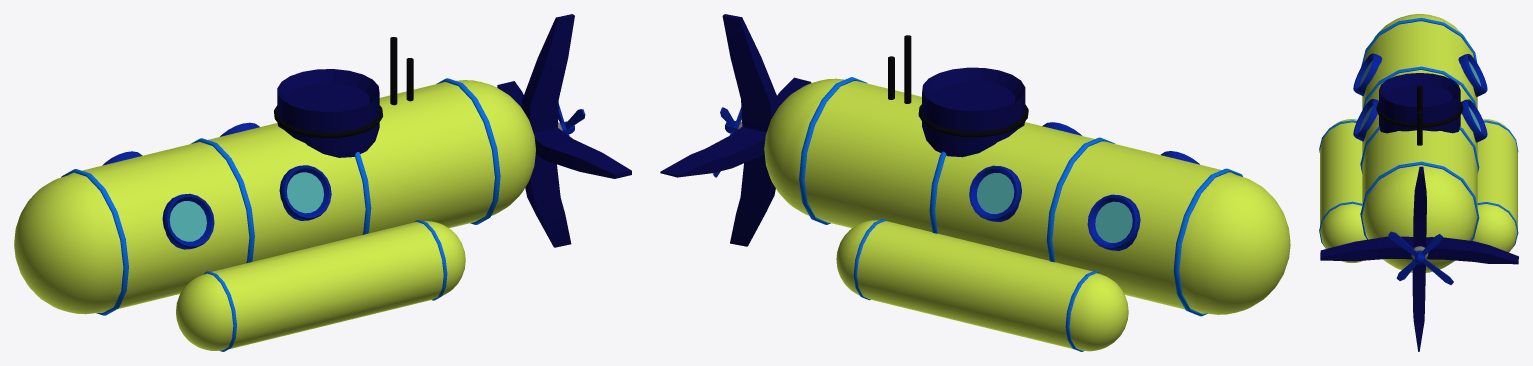
Rendered from Blue Zir Daryayi.fbx.
3 renders of one model, left to right at view 1: azimuth 30°, elevation 25°; view 2: azimuth 150°, elevation 25°; view 3: azimuth 270°, elevation 25°, orthographic. The views are drawn at different scales.
Visible parts, largest first — view 1: polySurface27, polySurface44, polySurface42, polySurface30, polySurface29, polySurface26, polySurface48, polySurface43, polySurface37, polySurface41, polySurface25, polySurface39; view 2: polySurface27, polySurface28, polySurface42, polySurface30, polySurface29, polySurface49, polySurface50, polySurface43, polySurface37, polySurface41, polySurface25, polySurface39; view 3: polySurface27, polySurface44, polySurface28, polySurface42, polySurface29, polySurface30, polySurface23, polySurface37, polySurface49, polySurface50, polySurface48, polySurface26 (+4 smaller).
Part boxes in pixels (bbox=[...]): polySurface27: bbox=[14, 80, 535, 314]; polySurface44: bbox=[176, 221, 465, 350]; polySurface42: bbox=[274, 69, 382, 157]; polySurface30: bbox=[522, 14, 574, 247]; polySurface29: bbox=[497, 81, 631, 178]; polySurface26: bbox=[279, 165, 331, 220]; polySurface48: bbox=[162, 193, 214, 249]; polySurface43: bbox=[61, 169, 128, 315]; polySurface37: bbox=[436, 78, 500, 224]; polySurface41: bbox=[191, 138, 254, 263]; polySurface25: bbox=[390, 37, 397, 105]; polySurface39: bbox=[355, 152, 371, 234]; polySurface27: bbox=[764, 78, 1290, 314]; polySurface28: bbox=[836, 220, 1128, 351]; polySurface42: bbox=[918, 67, 1028, 157]; polySurface30: bbox=[722, 14, 778, 246]; polySurface29: bbox=[660, 77, 811, 177]; polySurface49: bbox=[1087, 194, 1140, 250]; polySurface50: bbox=[969, 165, 1021, 221]; polySurface43: bbox=[1173, 168, 1242, 316]; polySurface37: bbox=[799, 77, 867, 224]; polySurface41: bbox=[1046, 137, 1114, 262]; polySurface25: bbox=[904, 35, 911, 103]; polySurface39: bbox=[929, 151, 946, 233]; polySurface27: bbox=[1362, 14, 1477, 272]; polySurface44: bbox=[1320, 119, 1366, 262]; polySurface28: bbox=[1472, 119, 1517, 252]; polySurface42: bbox=[1376, 73, 1463, 133]; polySurface29: bbox=[1320, 236, 1518, 264]; polySurface30: bbox=[1412, 166, 1426, 351]; polySurface23: bbox=[1388, 231, 1453, 284]; polySurface37: bbox=[1360, 161, 1479, 240]; polySurface49: bbox=[1458, 54, 1487, 96]; polySurface50: bbox=[1461, 99, 1487, 142]; polySurface48: bbox=[1353, 53, 1381, 95]; polySurface26: bbox=[1353, 99, 1378, 141].
Size of the model in its own units: 19.27 by 8.26 by 7.59.
